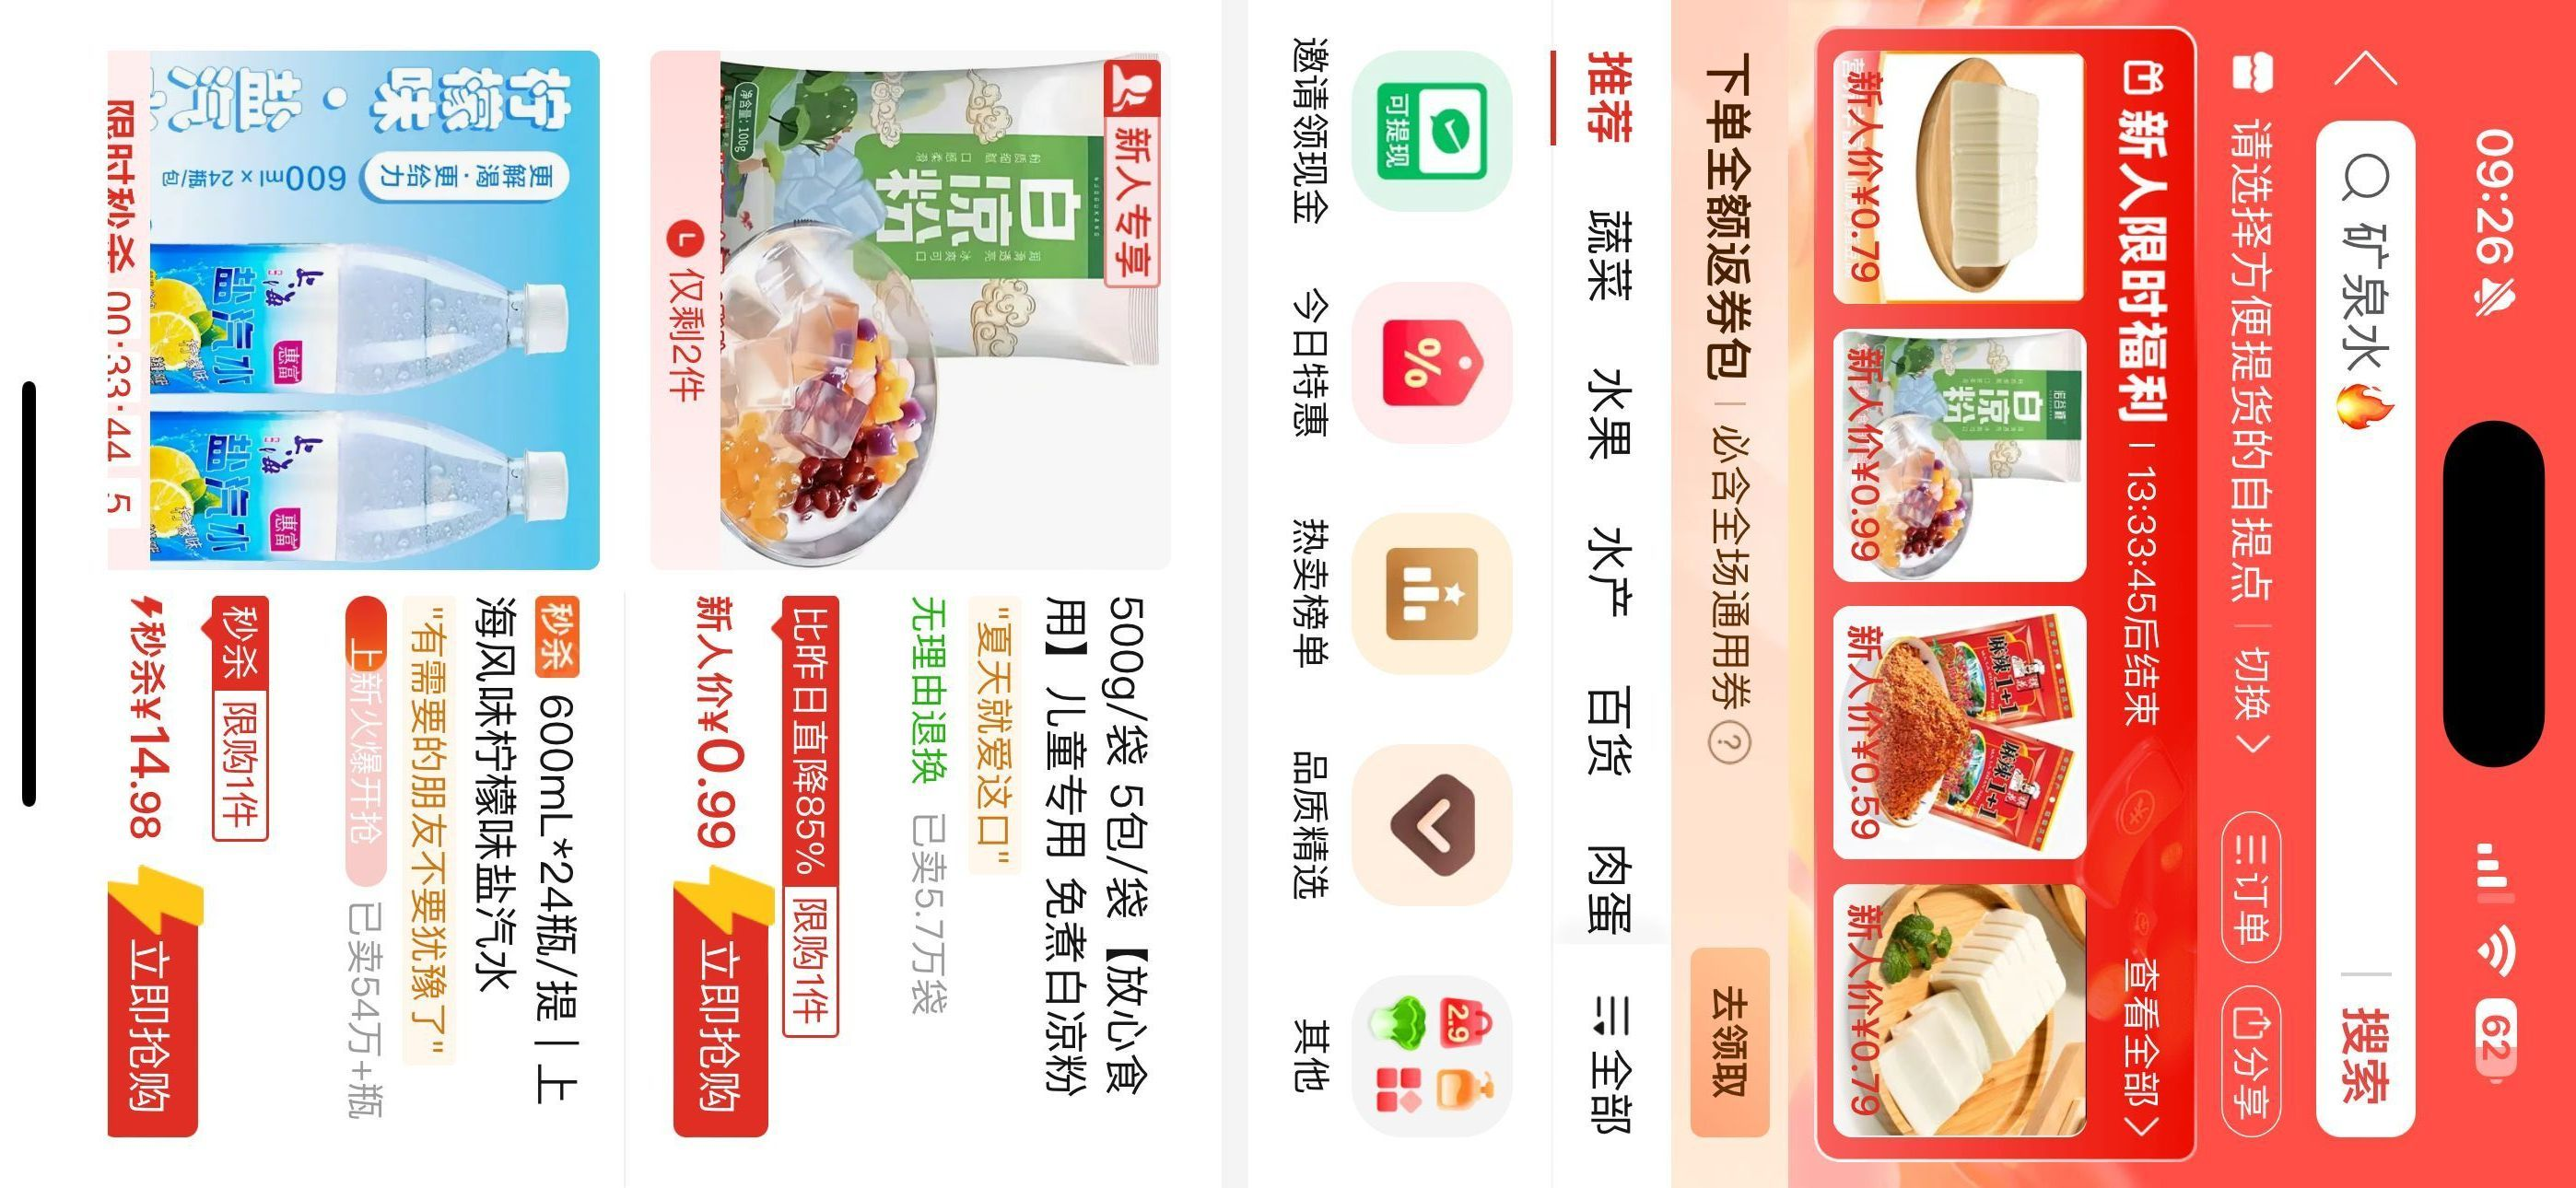item: (660, 36, 1170, 1162), (87, 48, 603, 1157)
op_bar: (2300, 5, 2440, 1183)
seckill: (1817, 28, 2182, 1157)
